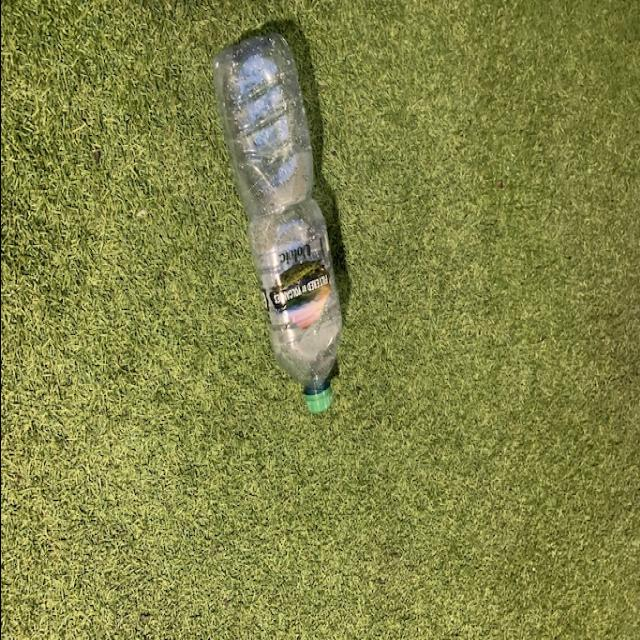PET: (209, 25, 343, 415)
